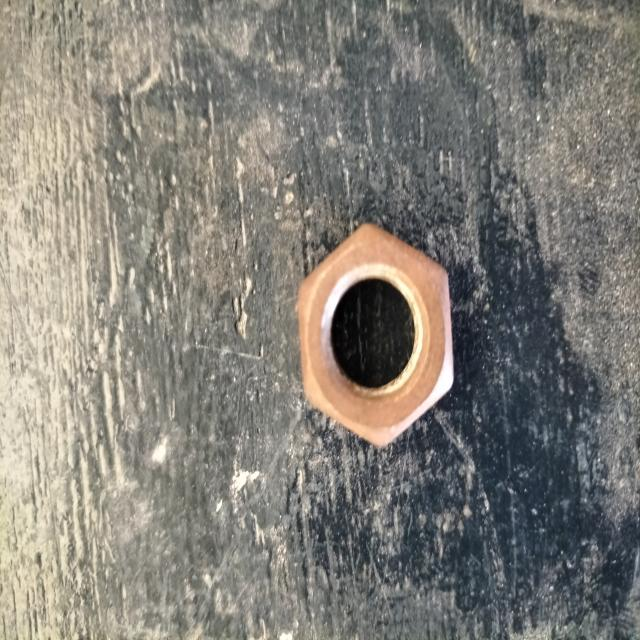nuts: (298, 222, 454, 447)
